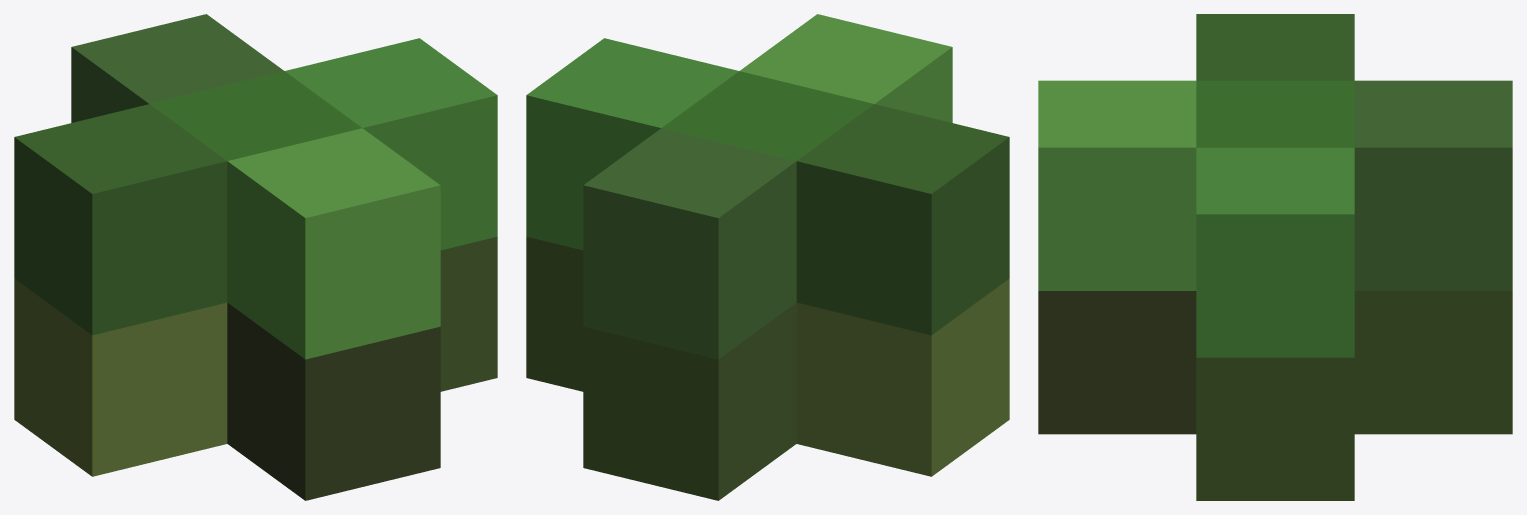
The model's file is tavern_wine_bottle_02.glb.
3 renders of one model, left to right at view 1: azimuth 30°, elevation 25°; view 2: azimuth 150°, elevation 25°; view 3: azimuth 270°, elevation 25°, orthographic.
Visible parts, largest first — view 1: tavern_wine_bottle_02; view 2: tavern_wine_bottle_02; view 3: tavern_wine_bottle_02.
Part boxes in pixels (box(x1,y1,x2,y2)): tavern_wine_bottle_02: box(14, 14, 497, 500); tavern_wine_bottle_02: box(526, 14, 1009, 500); tavern_wine_bottle_02: box(1038, 14, 1512, 500).
Size of the model in its own units: 0.75 by 0.5 by 0.75.
1 material, 1 textured.
